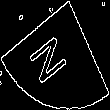N_NE: (31, 24, 79, 86)
